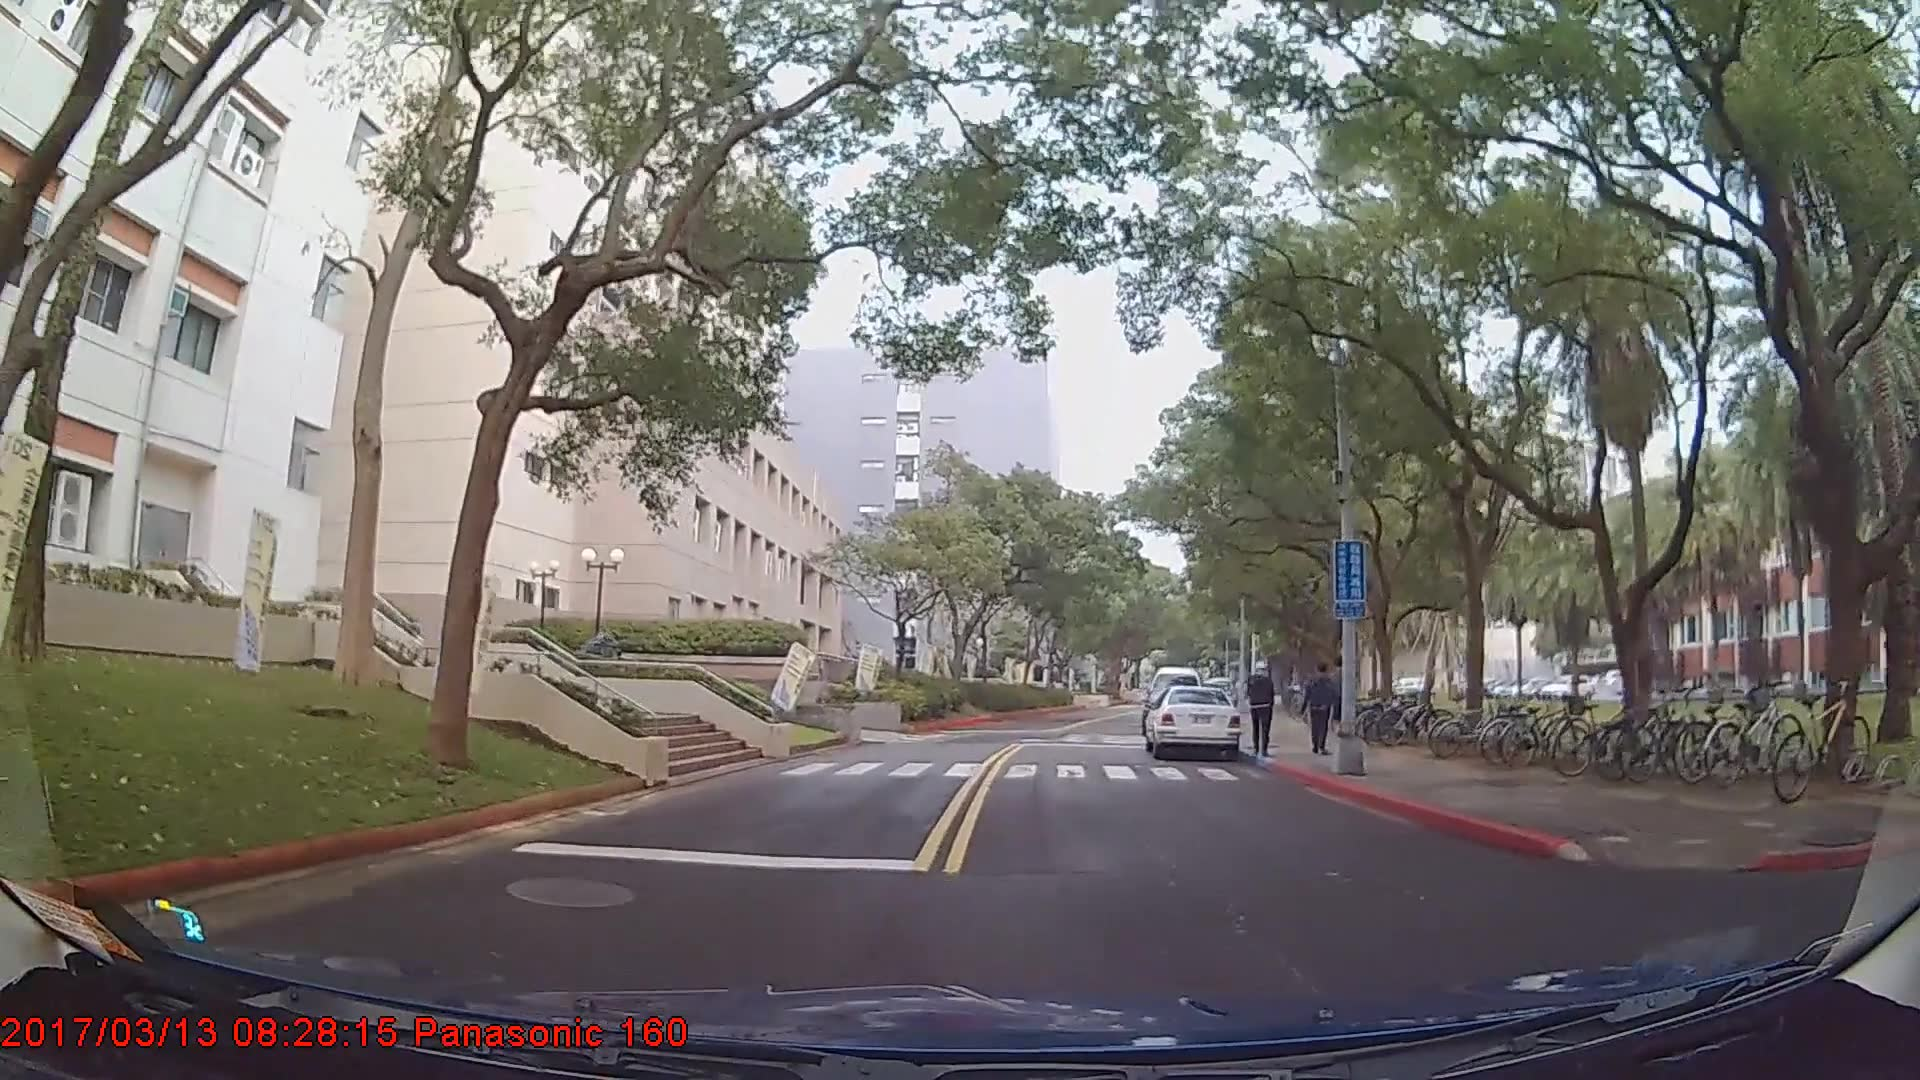pedestrian: (1304, 661, 1343, 756), (1246, 662, 1277, 760)
vehicle: (1139, 683, 1243, 762)
